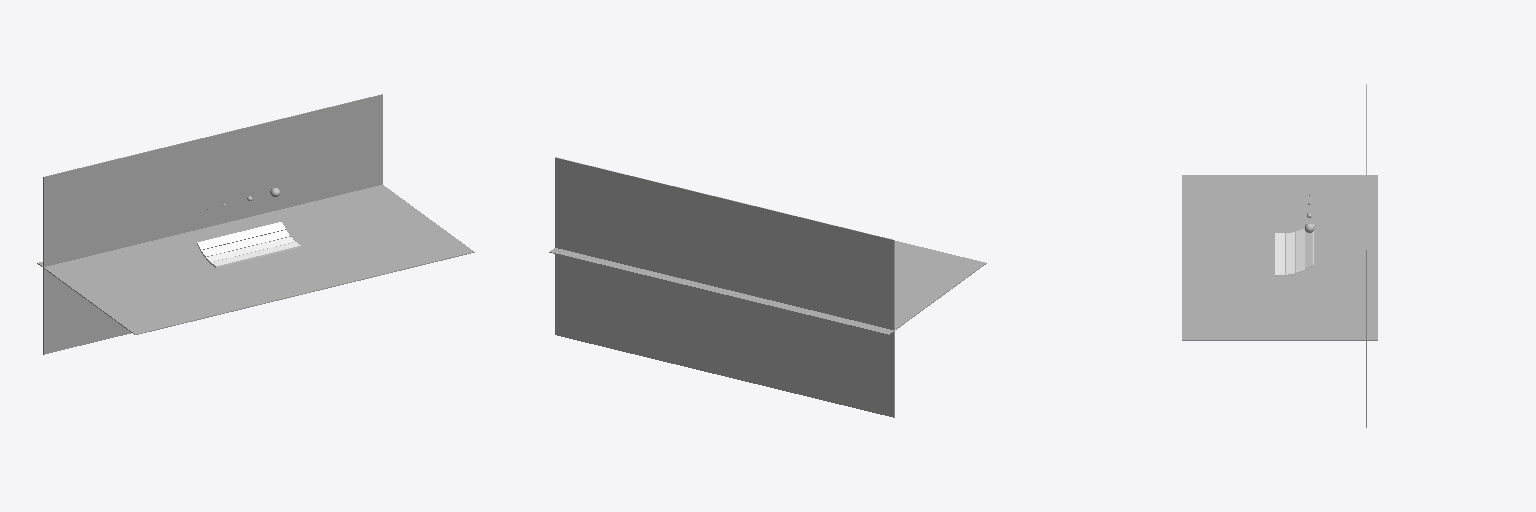
The model's file is veach_wall.obj.
3 views of the same model, side by side, from view 1: azimuth 30°, elevation 25°; view 2: azimuth 150°, elevation 25°; view 3: azimuth 270°, elevation 25° (orthographic).
Visible parts, largest first — view 1: Floor, Floor.001, Ground_4, Ground_3, Ground_1, Ground_2; view 2: Floor, Floor.001; view 3: Floor.001.
Part boxes in pixels (left/top/right/bottom): Floor: left=43, top=94, right=382, bottom=354; Floor.001: left=37, top=185, right=474, bottom=334; Ground_4: left=197, top=222, right=285, bottom=250; Ground_3: left=201, top=230, right=290, bottom=257; Ground_1: left=211, top=242, right=300, bottom=267; Ground_2: left=206, top=237, right=294, bottom=263; Floor: left=555, top=157, right=894, bottom=417; Floor.001: left=549, top=241, right=986, bottom=334; Floor.001: left=1182, top=175, right=1377, bottom=340.
Size of the model in its own units: 40 by 20 by 20.